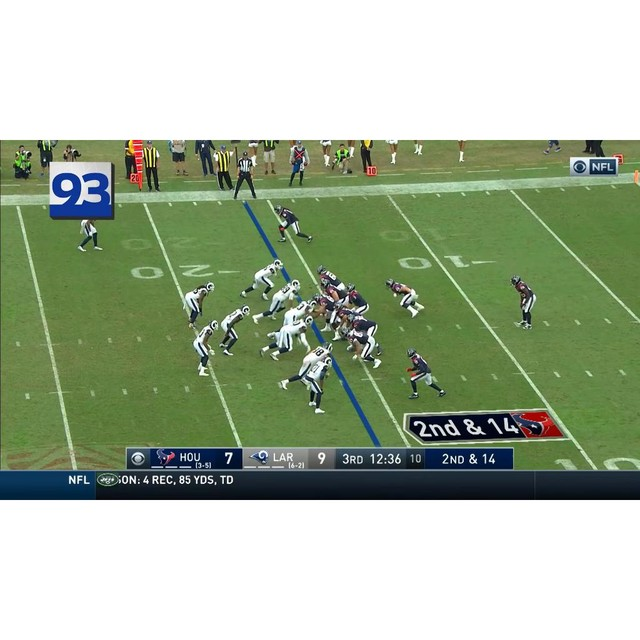american-football-player: (277, 343, 333, 390), (259, 315, 312, 361), (252, 279, 302, 323), (406, 349, 446, 400), (240, 258, 283, 300), (303, 355, 332, 414), (220, 304, 250, 356), (386, 278, 424, 319), (274, 203, 312, 243), (345, 327, 382, 368), (192, 319, 219, 375), (183, 281, 213, 329), (510, 274, 536, 329), (282, 296, 319, 327), (331, 304, 355, 341), (77, 219, 102, 251), (345, 282, 369, 315), (317, 265, 346, 291), (320, 280, 346, 305)
referee: (232, 151, 258, 199)
